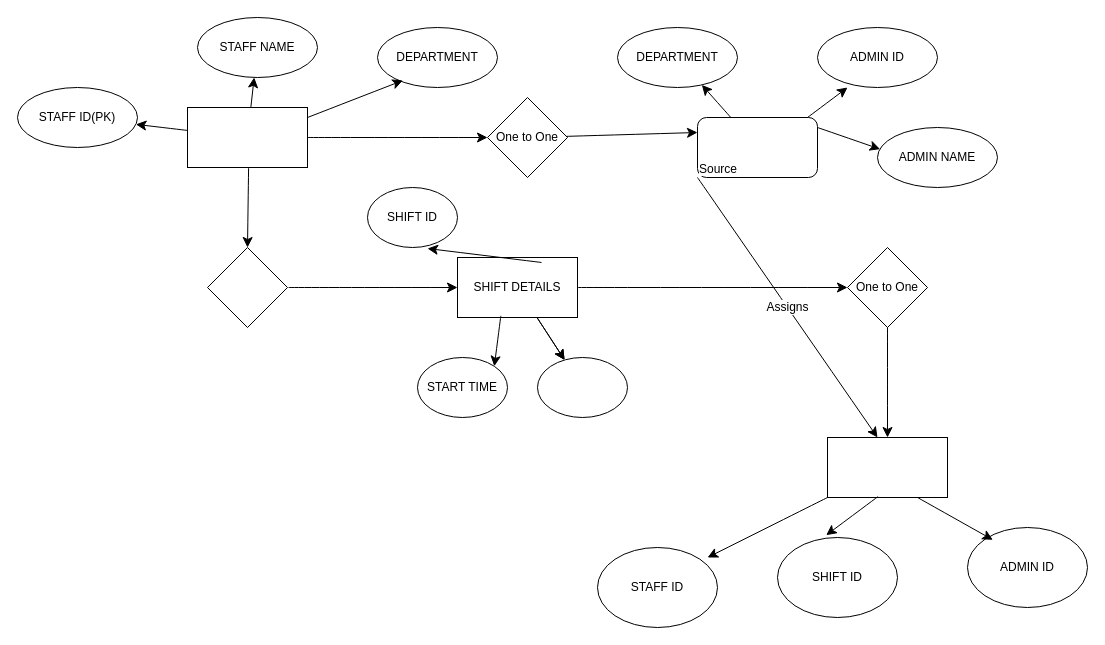
Some shapes in this 1105 by 645 pixel diagram are drawn without their labels. The shapes that lost their labels are listed below. From the top down, each one's centre as x and y in pixels, then its label:
At point (247, 137): "STAFF DETAILS".
At point (757, 147): "ADMIN DETAILS".
At point (247, 287): "One to Many".
At point (582, 387): "END TIME".
At point (887, 467): "ASSIGNMENT DETAILS".
